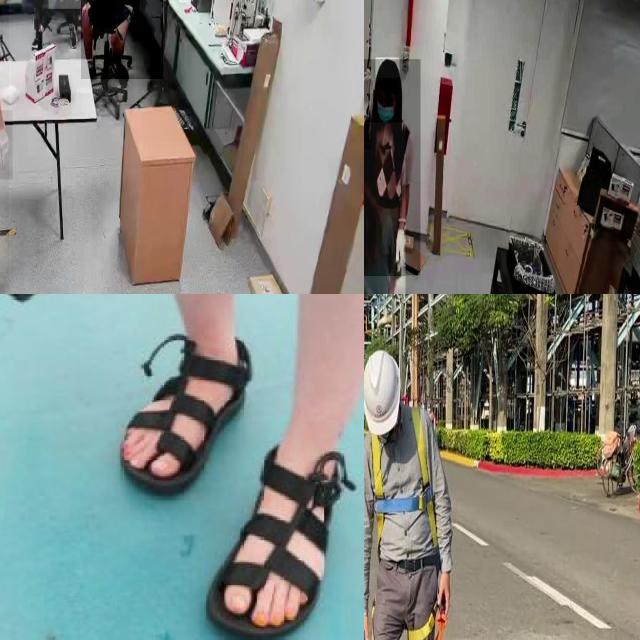Harness: (371, 408, 438, 548)
Sandals: (205, 434, 343, 640), (120, 306, 252, 497)
face_mask: (378, 98, 396, 124)
hand_glove: (0, 110, 13, 180)
head_nohelmet: (376, 57, 400, 79), (364, 124, 372, 150)
person: (364, 59, 421, 276), (80, 0, 163, 80)
